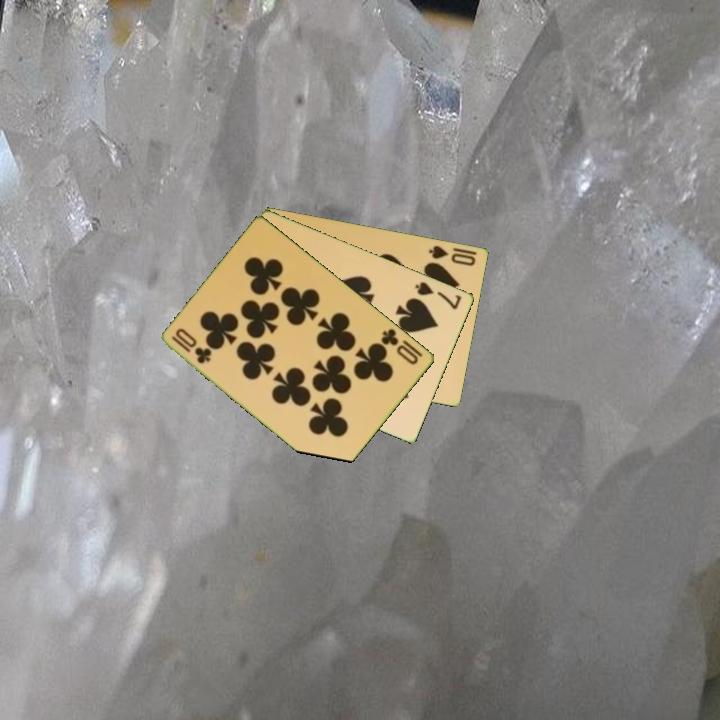10c: (168, 324, 215, 367), (378, 325, 422, 368)
10s: (426, 241, 479, 269)
7s: (412, 278, 465, 312)
